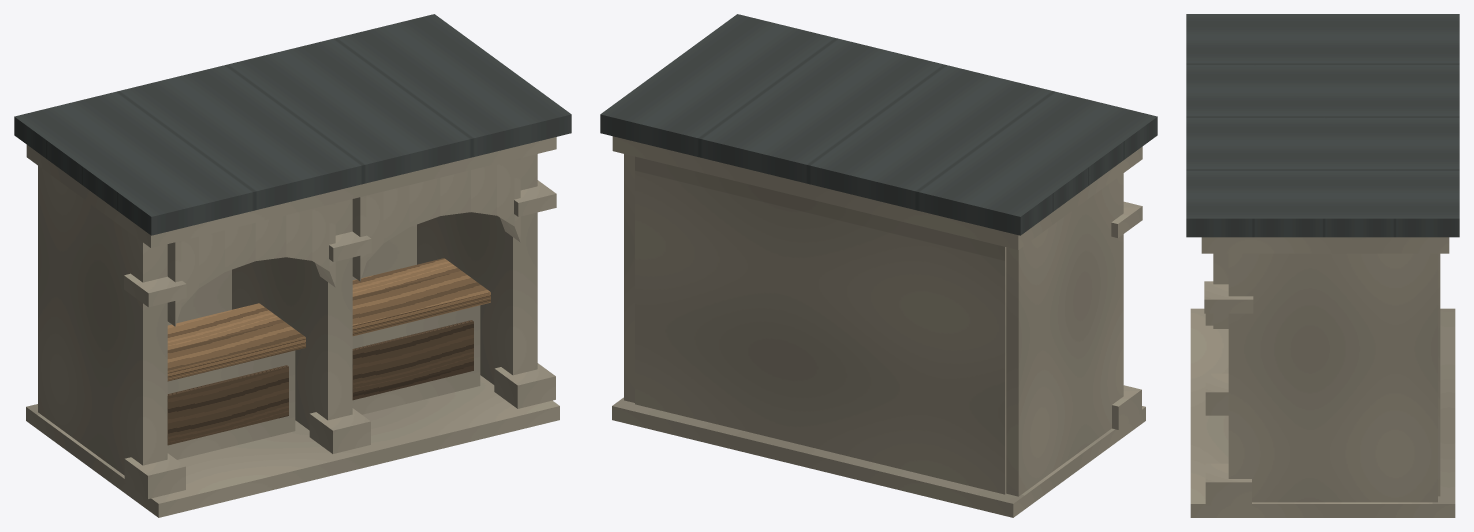
File: lahore.glb
3 renders of one model, left to right at view 1: azimuth 30°, elevation 25°; view 2: azimuth 150°, elevation 25°; view 3: azimuth 270°, elevation 25°, orthographic.
Parts seen in each view (by area): view 1: lahore; view 2: lahore; view 3: lahore.
Boxes of the visible parts, x1,y1,x2,y2 form: lahore: (14, 14, 571, 517); lahore: (600, 14, 1157, 517); lahore: (1186, 14, 1459, 517).
Bounding box in the file's own units: 3.61 × 2.5 × 2.04.
1 material, 1 textured.
